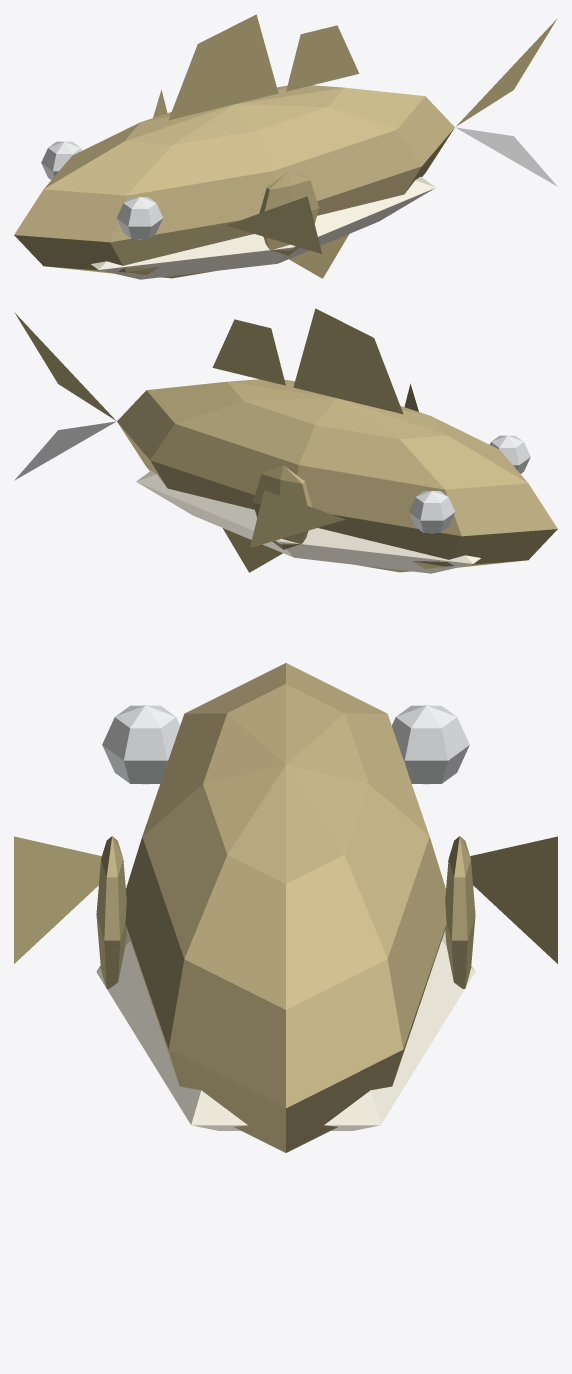
Rendered from fish-walleye.glb.
The picture shows the model from 3 angles, top to bottom: view 1: azimuth 30°, elevation 25°; view 2: azimuth 150°, elevation 25°; view 3: azimuth 270°, elevation 25°; orthographic projection. The views are drawn at different scales.
Visible parts, largest first — view 1: Walleye; view 2: Walleye; view 3: Walleye.
Boxes of the visible parts, x1,y1,x2,y2 form: Walleye: [14, 14, 557, 279]; Walleye: [14, 308, 557, 573]; Walleye: [14, 663, 557, 1152].
Size of the model in its own units: 1.48 by 0.73 by 0.6884.
